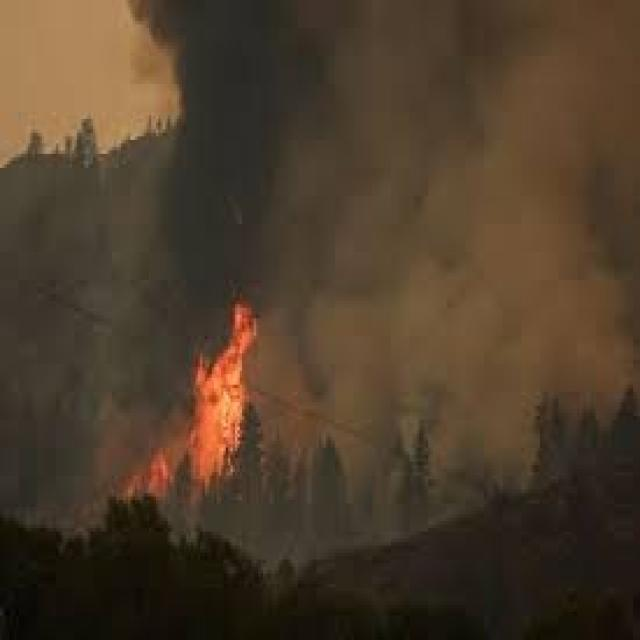Fire: (119, 287, 261, 531)
